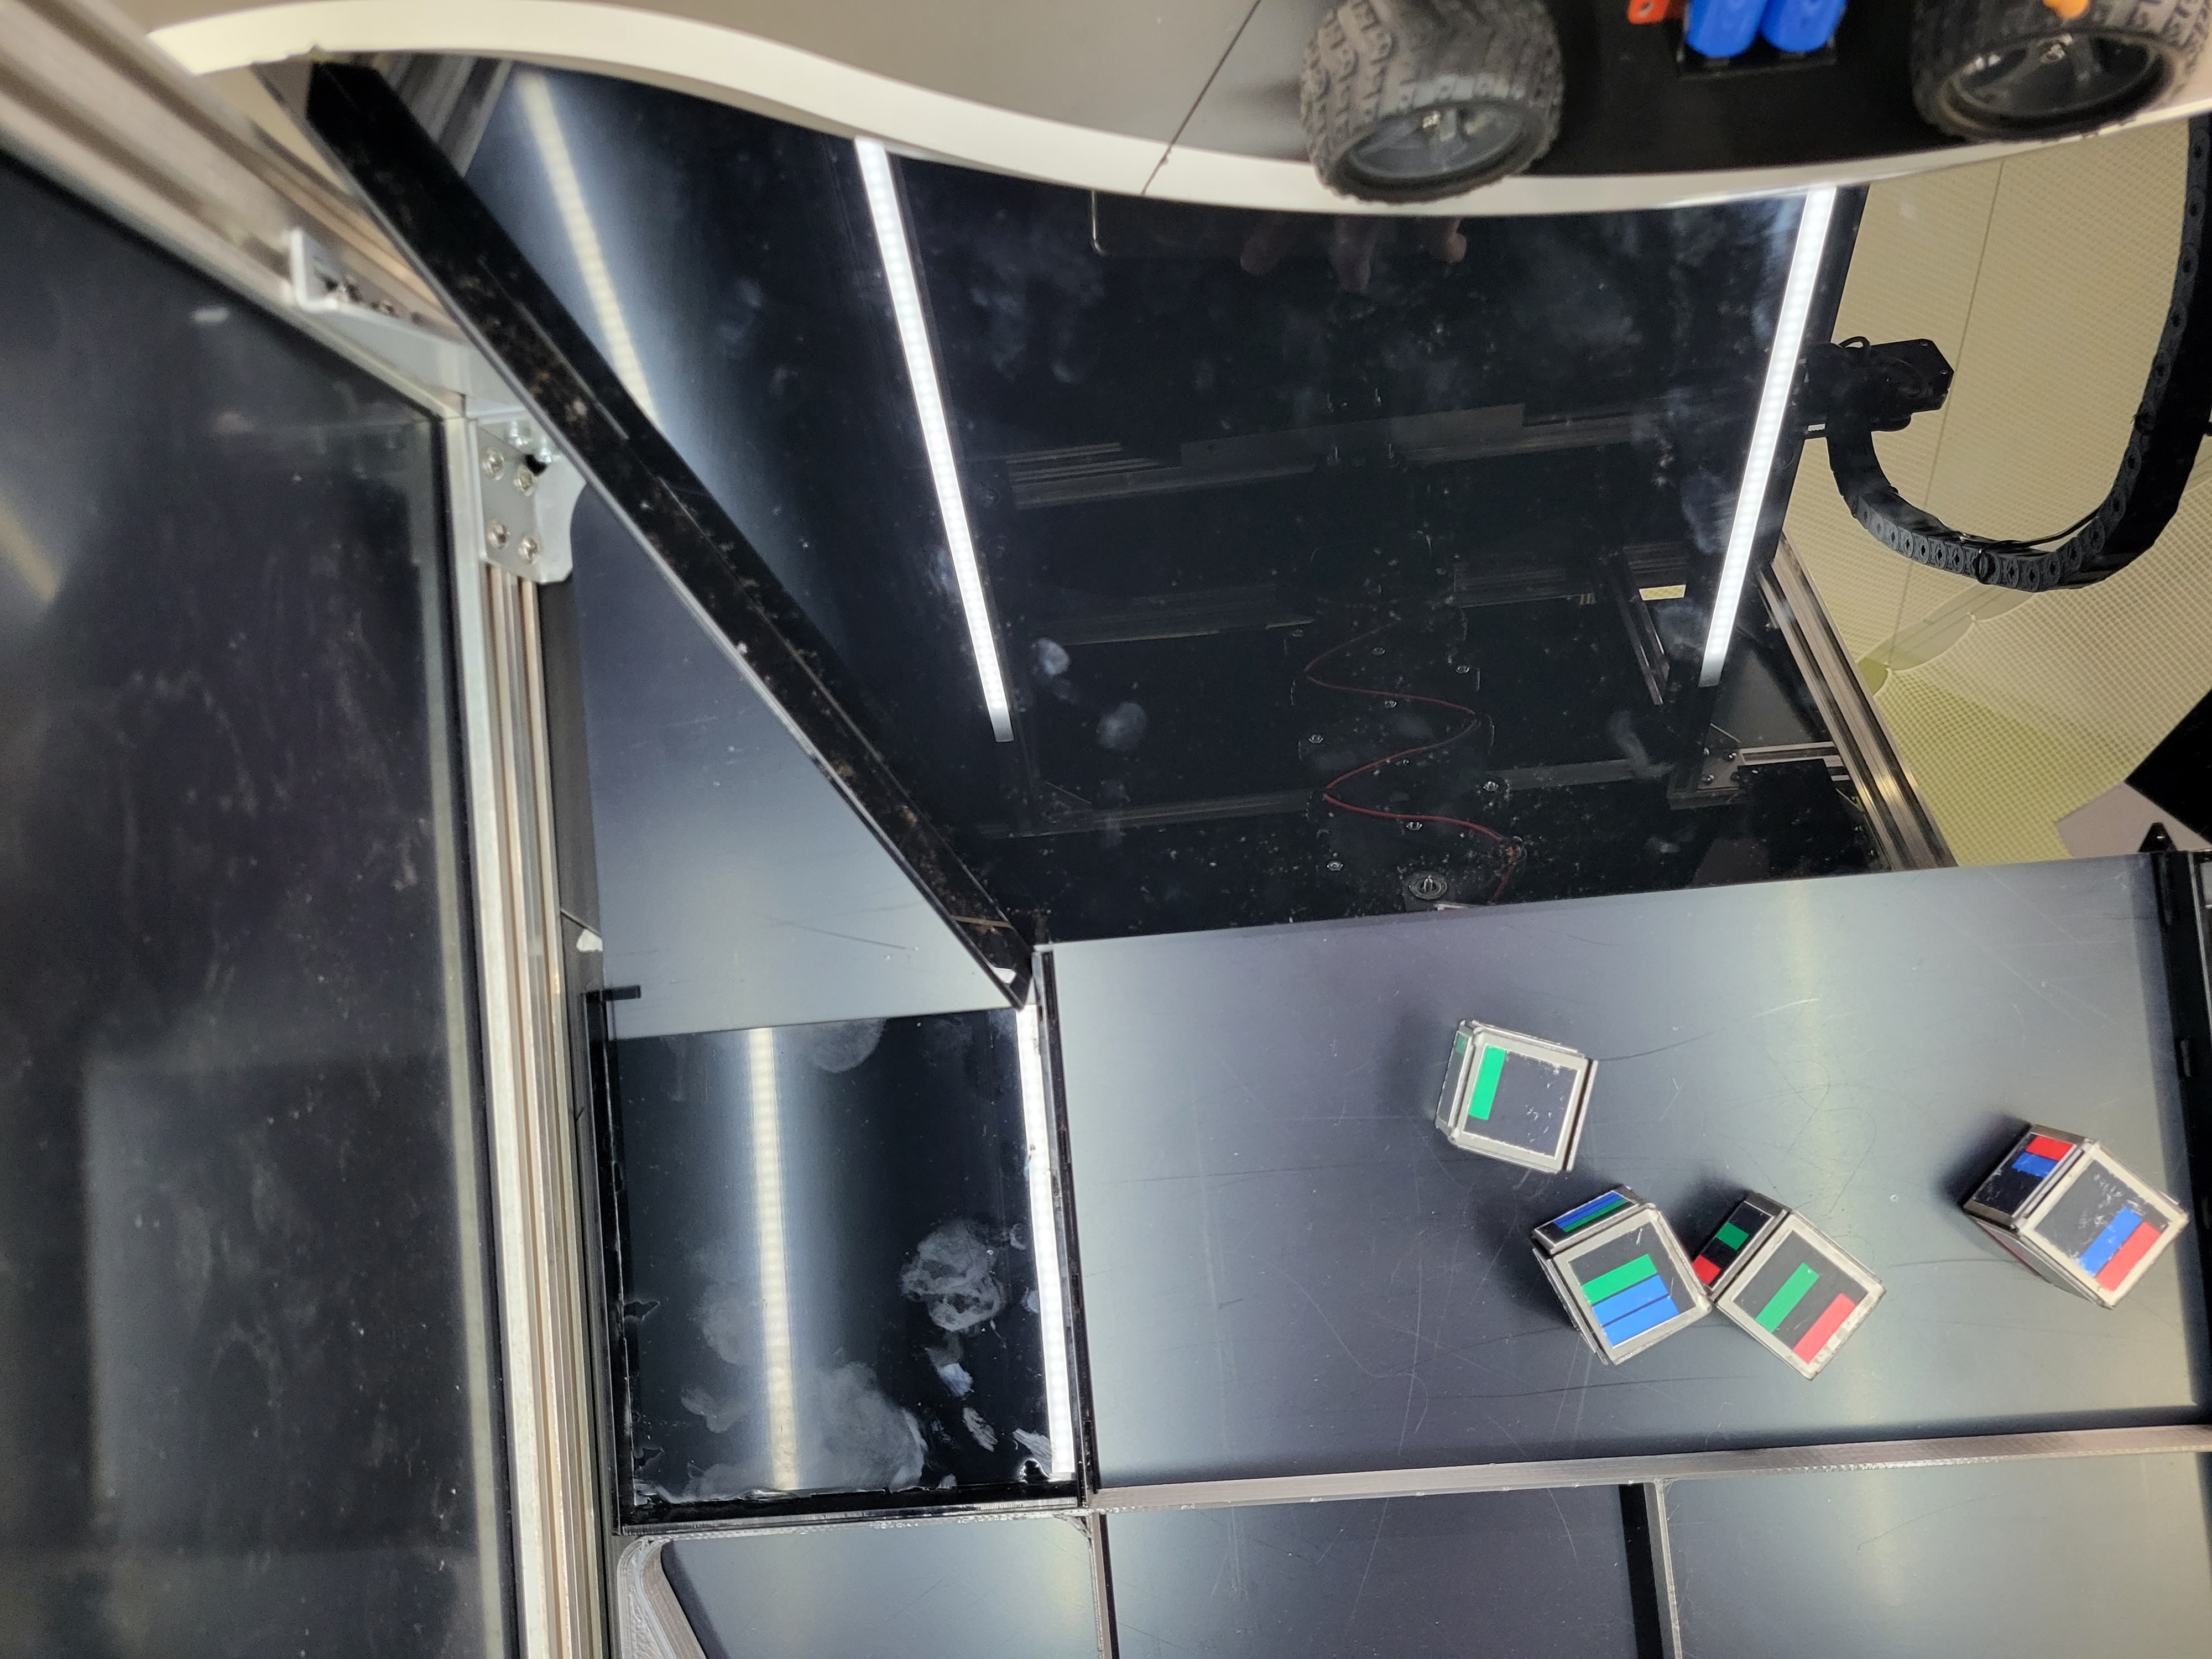Cube: (2003, 1122, 2198, 1323), (1710, 1188, 1902, 1384), (1540, 1182, 1717, 1391), (1425, 1004, 1601, 1180)
